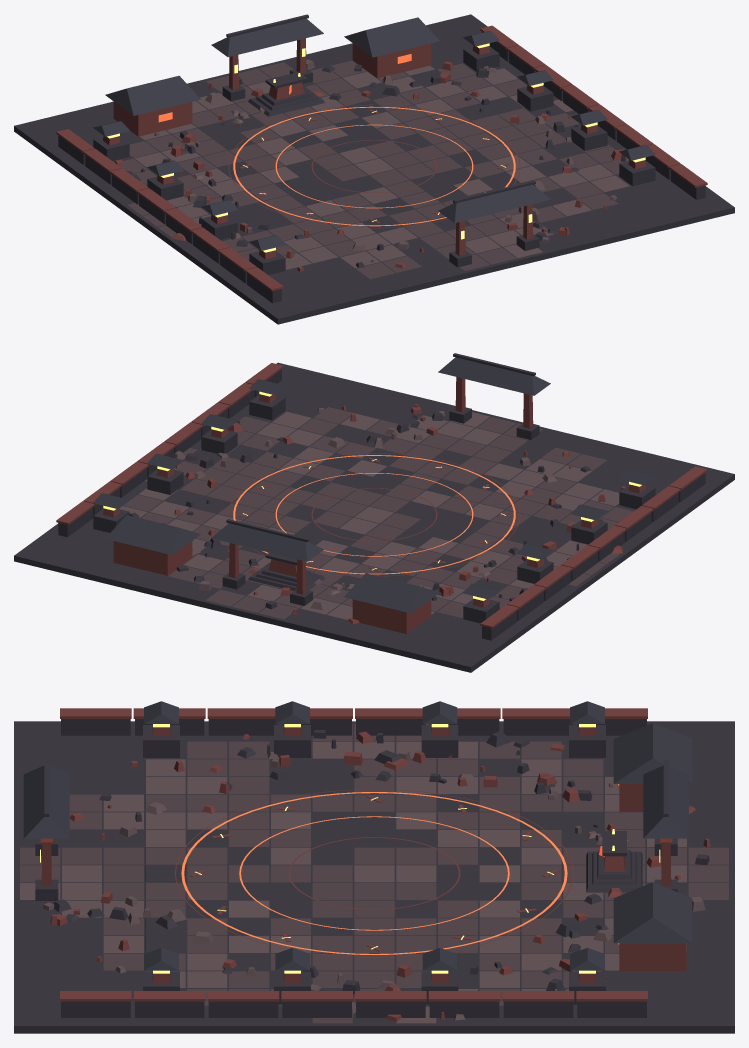
File: ARENA_00_BloodAltar.glb
3 renders of one model, top to bottom at view 1: azimuth 30°, elevation 25°; view 2: azimuth 150°, elevation 25°; view 3: azimuth 270°, elevation 25°, orthographic. The views are drawn at different scales.
Parts seen in each view (by area): view 1: SM_ARENA_00_BloodAltar_Ground, SM_ARENA_00_BloodAltar_ShrinesAndWalls, SM_ARENA_00_BloodAltar_Rubble, SM_ARENA_00_BloodAltar_BloodSeal, SM_ARENA_00_BloodAltar_EmberLanterns; view 2: SM_ARENA_00_BloodAltar_Ground, SM_ARENA_00_BloodAltar_ShrinesAndWalls, SM_ARENA_00_BloodAltar_Rubble, SM_ARENA_00_BloodAltar_BloodSeal; view 3: SM_ARENA_00_BloodAltar_Ground, SM_ARENA_00_BloodAltar_ShrinesAndWalls, SM_ARENA_00_BloodAltar_Rubble, SM_ARENA_00_BloodAltar_BloodSeal, SM_ARENA_00_BloodAltar_EmberLanterns.
Boxes of the visible parts, bbox=[...] form: SM_ARENA_00_BloodAltar_Ground: bbox=[14, 14, 734, 324]; SM_ARENA_00_BloodAltar_ShrinesAndWalls: bbox=[56, 14, 707, 303]; SM_ARENA_00_BloodAltar_Rubble: bbox=[115, 59, 628, 271]; SM_ARENA_00_BloodAltar_BloodSeal: bbox=[228, 104, 520, 228]; SM_ARENA_00_BloodAltar_EmberLanterns: bbox=[107, 43, 645, 252]; SM_ARENA_00_BloodAltar_Ground: bbox=[14, 362, 734, 672]; SM_ARENA_00_BloodAltar_ShrinesAndWalls: bbox=[56, 353, 707, 640]; SM_ARENA_00_BloodAltar_Rubble: bbox=[129, 404, 625, 624]; SM_ARENA_00_BloodAltar_BloodSeal: bbox=[228, 453, 520, 576]; SM_ARENA_00_BloodAltar_Ground: bbox=[14, 721, 734, 1033]; SM_ARENA_00_BloodAltar_ShrinesAndWalls: bbox=[23, 701, 692, 1017]; SM_ARENA_00_BloodAltar_Rubble: bbox=[43, 730, 710, 1021]; SM_ARENA_00_BloodAltar_BloodSeal: bbox=[175, 789, 573, 957]; SM_ARENA_00_BloodAltar_EmberLanterns: bbox=[40, 724, 660, 973].
Bounding box in the file's own units: 44 × 6.36 × 44.
